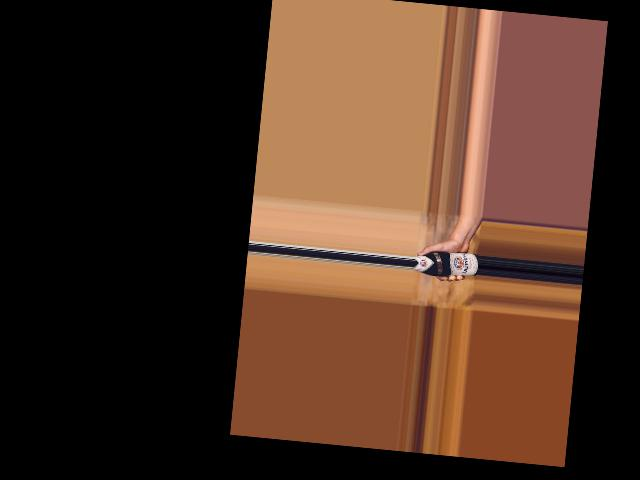beer: (414, 247, 479, 279)
